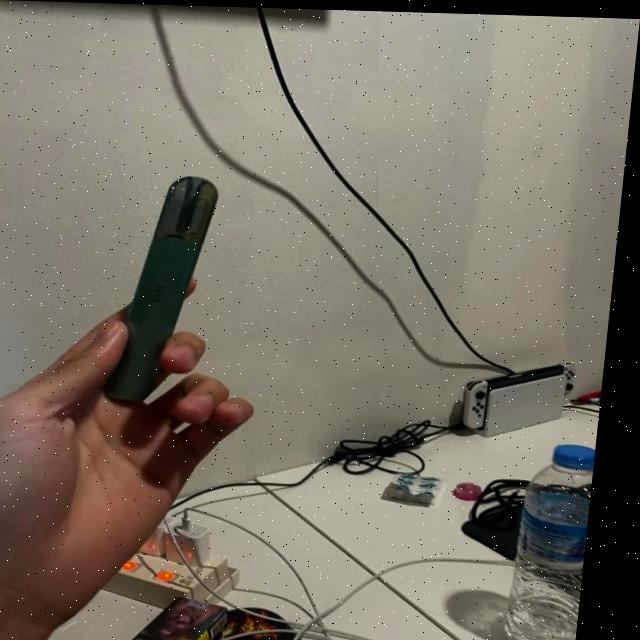vape: (111, 172, 226, 405)
